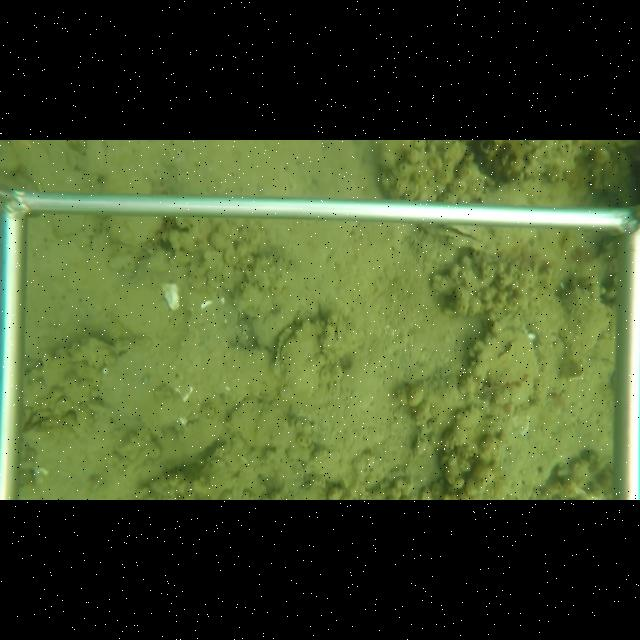Oyster-Closed: (469, 327, 539, 383), (563, 287, 612, 367)
Oyster-Open: (272, 321, 323, 383), (418, 224, 497, 255)
